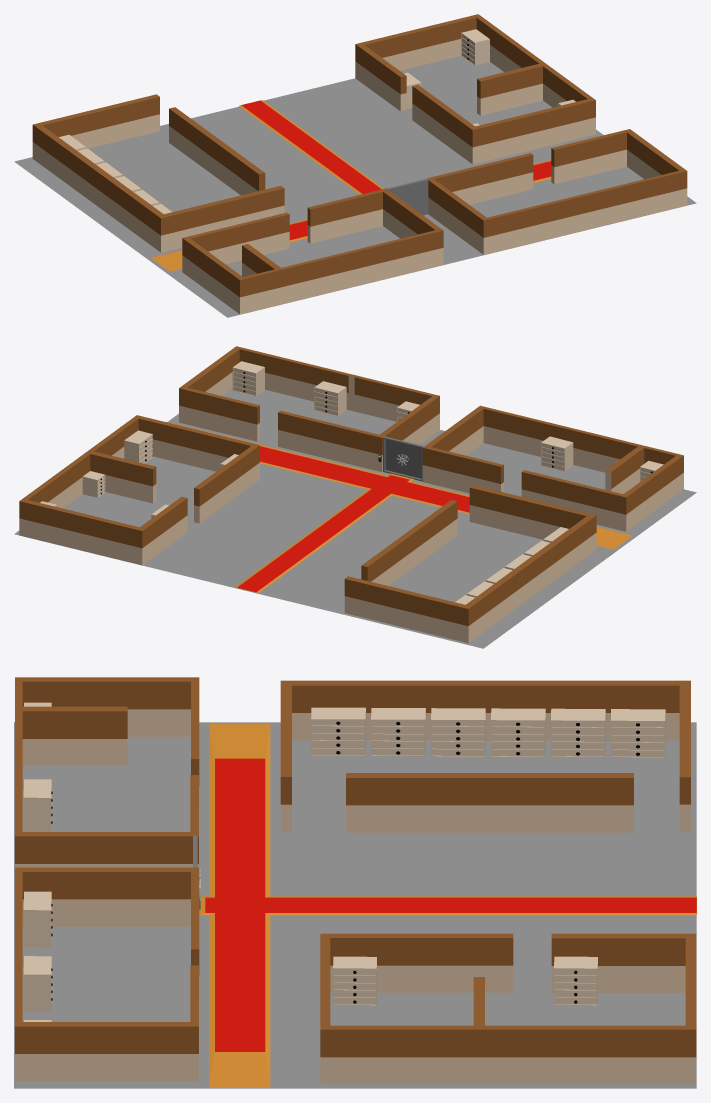
File: office.fbx
The picture shows the model from 3 angles, top to bottom: view 1: azimuth 30°, elevation 25°; view 2: azimuth 150°, elevation 25°; view 3: azimuth 270°, elevation 25°; orthographic projection. The views are drawn at different scales.
Parts seen in each view (by area): view 1: Ground, Cube.011, Cube, Cube.010, Cube.006, Plane, Cube.008, Cube.009, Cylinder.001, Cube.001; view 2: Ground, Cube, Cube.011, Cube.010, Cube.006, Plane, Cube.008, Cylinder.001, Cube.009, Cube.015, Cube.012, Cube.013 (+2 smaller); view 3: Ground, Cube, Plane, Cube.010, Cube.011, Cube.008, Cube.006, Cube.009, Cube.003, Cube.004, Cube.014, Cube.013 (+1 smaller).
Part boxes in pixels (<box>): Ground: <box>14,56,696,317</box>; Cube.011: <box>182,188,443,314</box>; Cube: <box>355,14,595,164</box>; Cube.010: <box>426,129,687,254</box>; Cube.006: <box>32,94,284,252</box>; Plane: <box>151,100,551,271</box>; Cube.008: <box>169,107,265,195</box>; Cube.009: <box>59,134,171,213</box>; Cylinder.001: <box>386,178,428,215</box>; Cube.001: <box>461,29,489,65</box>; Ground: <box>14,389,696,648</box>; Cube: <box>19,415,259,565</box>; Cube.011: <box>422,405,683,531</box>; Cube.010: <box>179,346,439,472</box>; Cube.006: <box>344,485,596,643</box>; Plane: <box>166,421,632,593</box>; Cube.008: <box>361,499,457,585</box>; Cylinder.001: <box>383,436,424,481</box>; Cube.009: <box>455,527,568,604</box>; Cube.015: <box>541,436,573,471</box>; Cube.012: <box>232,361,264,396</box>; Cube.013: <box>314,381,346,416</box>; Ground: <box>14,722,696,1088</box>; Cube: <box>320,933,696,1084</box>; Plane: <box>199,723,696,1087</box>; Cube.010: <box>15,867,199,1081</box>; Cube.011: <box>15,677,199,867</box>; Cube.008: <box>346,773,633,832</box>; Cube.006: <box>280,680,690,831</box>; Cube.009: <box>311,707,665,757</box>; Cube.003: <box>554,956,597,1005</box>; Cube.004: <box>333,956,376,1005</box>; Cube.014: <box>23,891,52,947</box>; Cube.013: <box>23,956,52,1011</box>.
Bounding box in the file's own units: 84.06 × 5.95 × 66.13.
